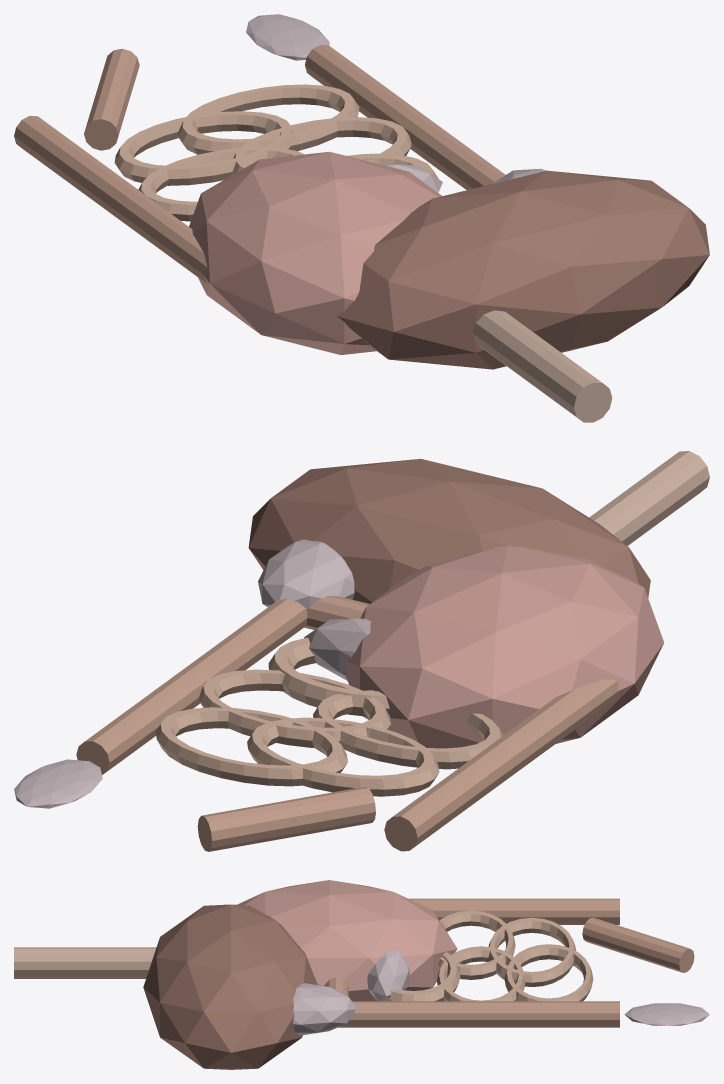
File: digestive-g3-low.glb
The picture shows the model from 3 angles, top to bottom: view 1: azimuth 30°, elevation 25°; view 2: azimuth 150°, elevation 25°; view 3: azimuth 270°, elevation 25°; orthographic projection. The views are drawn at different scales.
Parts seen in each view (by area): view 1: liver, stomach, descending_colon, ascending_colon, esophagus, small_intestine_loop_3, small_intestine_loop_4, sigmoid_colon_proxy, appendix_proxy, small_intestine_loop_2, small_intestine_loop_1, duodenum_proxy; view 2: stomach, liver, descending_colon, ascending_colon, sigmoid_colon_proxy, small_intestine_loop_4, esophagus, small_intestine_loop_3, small_intestine_loop_2, gallbladder_proxy, small_intestine_loop_1, appendix_proxy (+3 smaller); view 3: liver, stomach, ascending_colon, esophagus, descending_colon, sigmoid_colon_proxy, gallbladder_proxy, small_intestine_loop_3, small_intestine_loop_4, small_intestine_loop_1, small_intestine_loop_2, pancreas (+2 smaller).
Part boxes in pixels (x1,y1,x2,y2): liver: (337,170,709,369); stomach: (189,151,442,354); descending_colon: (14,115,207,283); ascending_colon: (305,45,505,189); esophagus: (472,310,612,422); small_intestine_loop_3: (114,111,293,185); small_intestine_loop_4: (177,84,359,154); sigmoid_colon_proxy: (84,48,139,150); appendix_proxy: (246,14,329,60); small_intestine_loop_2: (232,117,411,173); small_intestine_loop_1: (138,147,304,221); duodenum_proxy: (346,153,438,178); stomach: (346,546,664,748); liver: (248,458,650,603); descending_colon: (384,679,618,851); ascending_colon: (76,598,307,774); sigmoid_colon_proxy: (197,786,375,851); small_intestine_loop_4: (155,707,347,786); esophagus: (589,451,709,545); small_intestine_loop_3: (247,717,439,796); small_intestine_loop_2: (199,669,390,747); gallbladder_proxy: (258,539,354,610); small_intestine_loop_1: (313,690,503,769); appendix_proxy: (14,759,102,808); liver: (143,904,317,1069); stomach: (238,880,457,1001); ascending_colon: (338,1001,619,1027); esophagus: (14,947,156,978); descending_colon: (409,898,619,924); sigmoid_colon_proxy: (582,917,694,972); gallbladder_proxy: (293,983,355,1035); small_intestine_loop_3: (488,917,575,986); small_intestine_loop_4: (504,944,593,1001); small_intestine_loop_1: (438,910,515,979); small_intestine_loop_2: (437,946,525,1001); pancreas: (367,951,409,1001).
Size of the model in its own units: 2.12 by 0.74 by 4.12.
